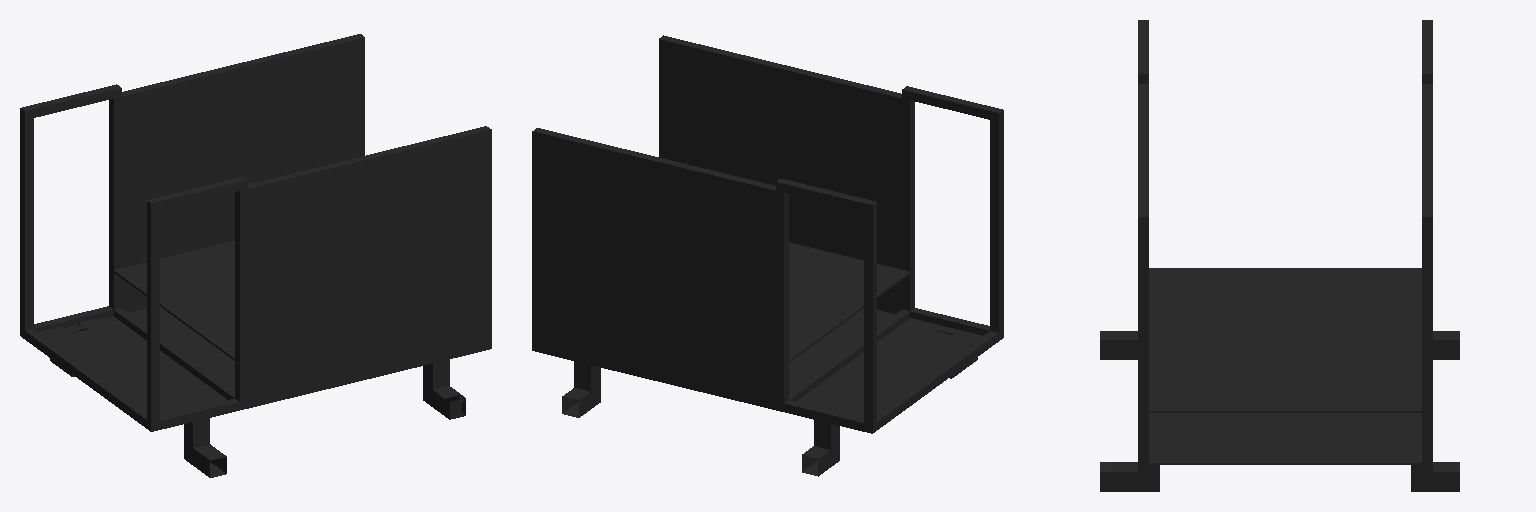
robot.urdf — my_robot:
<?xml version="1.0"?>
<robot name="my_robot" xmlns:xacro="http://www.ros.org/wiki/xacro">

  <!-- ======================== -->
  <!--       BASE (Chassis)    -->
  <!-- ======================== -->
  <link name="base_link">
    <visual>
      <geometry>
        <!-- Chassis mesh scaled appropriately -->
        <mesh filename="package://my_robot_description/meshes/chassis.dae" scale="0.3 0.3 0.3"/>
      </geometry>
      <material name="dark_gray">
        <color rgba="0.2 0.2 0.2 1.0"/>
      </material>
    </visual>
    <collision>
      <geometry>
        <mesh filename="package://my_robot_description/meshes/chassis.dae" scale="0.3 0.3 0.3"/>
      </geometry>
    </collision>
  </link>

  <!-- ======================== -->
  <!--    REALSENSE SENSOR     -->
  <!-- ======================== -->
  <link name="realsense_link">
    <visual>
      <geometry>
        <!-- Replace with your RealSense mesh; adjust scale as needed -->
        <mesh filename="package://my_robot_description/meshes/realsense.dae" scale="0.1 0.1 0.1"/>
      </geometry>
      <material name="black">
        <color rgba="0 0 0 1.0"/>
      </material>
    </visual>
    <collision>
      <geometry>
        <mesh filename="package://my_robot_description/meshes/realsense.dae" scale="0.1 0.1 0.1"/>
      </geometry>
    </collision>
  </link>

  <!-- Fixed joint mounting the RealSense on top of the chassis -->
  <joint name="joint_realsense" type="fixed">
    <parent link="base_link"/>
    <child link="realsense_link"/>
    <!-- Adjust these offsets so that the RealSense sits in the proper location (e.g., on top center) -->
    <origin xyz="0 0 0.3" rpy="0 0 0"/>
  </joint>

  <!-- ======================== -->
  <!--         WHEELS         -->
  <!-- ======================== -->

  <!-- Wheel Front Left -->
  <link name="wheel_front_left">
    <visual>
      <geometry>
        <mesh filename="package://my_robot_description/meshes/wheel_front_left.dae" scale="0.3 0.3 0.3"/>
      </geometry>
      <material name="black">
        <color rgba="0.1 0.1 0.1 1.0"/>
      </material>
    </visual>
    <collision>
      <geometry>
        <mesh filename="package://my_robot_description/meshes/wheel_front_left.dae" scale="0.3 0.3 0.3"/>
      </geometry>
    </collision>
  </link>
  <joint name="joint_wheel_front_left" type="continuous">
    <parent link="base_link"/>
    <child link="wheel_front_left"/>
    <!-- Place the front-left wheel at an offset relative to the chassis center -->
    <origin xyz="0.4 0.25 -0.2" rpy="0 0 0"/>
    <axis xyz="0 1 0"/>
  </joint>

  <!-- Wheel Front Right -->
  <link name="wheel_front_right">
    <visual>
      <geometry>
        <mesh filename="package://my_robot_description/meshes/wheel_front_right.dae" scale="0.3 0.3 0.3"/>
      </geometry>
      <material name="black">
        <color rgba="0.1 0.1 0.1 1.0"/>
      </material>
    </visual>
    <collision>
      <geometry>
        <mesh filename="package://my_robot_description/meshes/wheel_front_right.dae" scale="0.3 0.3 0.3"/>
      </geometry>
    </collision>
  </link>
  <joint name="joint_wheel_front_right" type="continuous">
    <parent link="base_link"/>
    <child link="wheel_front_right"/>
    <origin xyz="0.4 -0.25 -0.2" rpy="0 0 0"/>
    <axis xyz="0 1 0"/>
  </joint>

  <!-- Wheel Rear Left -->
  <link name="wheel_rear_left">
    <visual>
      <geometry>
        <mesh filename="package://my_robot_description/meshes/wheel_rear_left.dae" scale="0.3 0.3 0.3"/>
      </geometry>
      <material name="black">
        <color rgba="0.1 0.1 0.1 1.0"/>
      </material>
    </visual>
    <collision>
      <geometry>
        <mesh filename="package://my_robot_description/meshes/wheel_rear_left.dae" scale="0.3 0.3 0.3"/>
      </geometry>
    </collision>
  </link>
  <joint name="joint_wheel_rear_left" type="continuous">
    <parent link="base_link"/>
    <child link="wheel_rear_left"/>
    <origin xyz="-0.4 0.25 -0.2" rpy="0 0 0"/>
    <axis xyz="0 1 0"/>
  </joint>

  <!-- Wheel Rear Right -->
  <link name="wheel_rear_right">
    <visual>
      <geometry>
        <mesh filename="package://my_robot_description/meshes/wheel_rear_right.dae" scale="0.3 0.3 0.3"/>
      </geometry>
      <material name="black">
        <color rgba="0.1 0.1 0.1 1.0"/>
      </material>
    </visual>
    <collision>
      <geometry>
        <mesh filename="package://my_robot_description/meshes/wheel_rear_right.dae" scale="0.3 0.3 0.3"/>
      </geometry>
    </collision>
  </link>
  <joint name="joint_wheel_rear_right" type="continuous">
    <parent link="base_link"/>
    <child link="wheel_rear_right"/>
    <origin xyz="-0.4 -0.25 -0.2" rpy="0 0 0"/>
    <axis xyz="0 1 0"/>
  </joint>

</robot>

--- Render facts (derived) ---
3 views of the same robot in one strip: view 1: azimuth 30°, elevation 25°; view 2: azimuth 150°, elevation 25°; view 3: azimuth 270°, elevation 25° (orthographic).
Robot: my_robot — 6 links, 5 joints (4 continuous, 1 fixed); root link base_link; default pose: all joints at 0.
Visible links, largest first — view 1: base_link; view 2: base_link; view 3: base_link.
Link boxes in pixels (x1,y1,x2,y2): base_link: (20, 34, 491, 477); base_link: (532, 35, 1003, 476); base_link: (1100, 20, 1459, 491).
Size in the robot's own frame: 32.37 by 26.37 by 24.77 metres.
1 mesh visuals loaded from 6 distinct referenced files (1 Collada DAE); not drawn: 5 (reference not matched to a file when rendering).